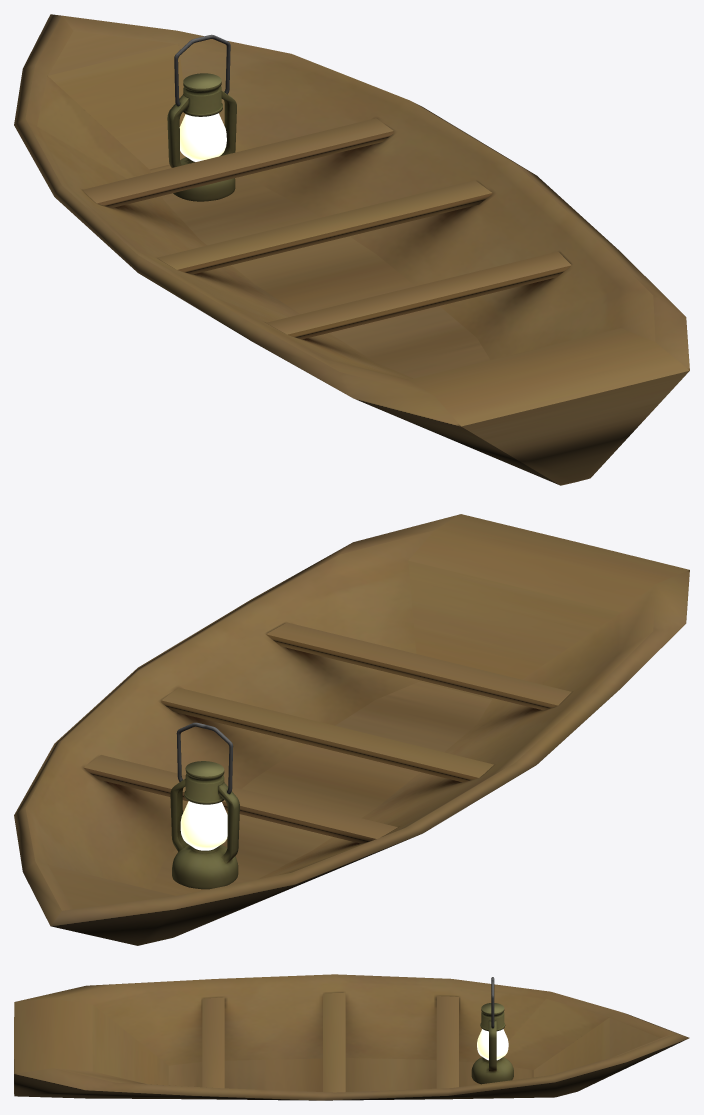
The model's file is lodka.gltf.
3 views of the same model, one above another, from view 1: azimuth 30°, elevation 25°; view 2: azimuth 150°, elevation 25°; view 3: azimuth 270°, elevation 25° (orthographic). The views are drawn at different scales.
Parts seen in each view (by area): view 1: Cube, Cylinder.002, Swiatlo2; view 2: Cube, Cylinder.002, Swiatlo2; view 3: Cube, Cylinder.002, Swiatlo2.
Boxes of the visible parts, x1,y1,x2,y2 form: Cube: [14, 14, 689, 485]; Cylinder.002: [167, 34, 236, 201]; Swiatlo2: [179, 113, 226, 161]; Cube: [14, 514, 689, 945]; Cylinder.002: [170, 722, 239, 889]; Swiatlo2: [180, 801, 227, 850]; Cube: [14, 974, 689, 1100]; Cylinder.002: [471, 977, 513, 1084]; Swiatlo2: [477, 1029, 508, 1060].
Size of the model in its own units: 2 by 0.8298 by 4.56.
Materials: 5 (4 with a texture image).
